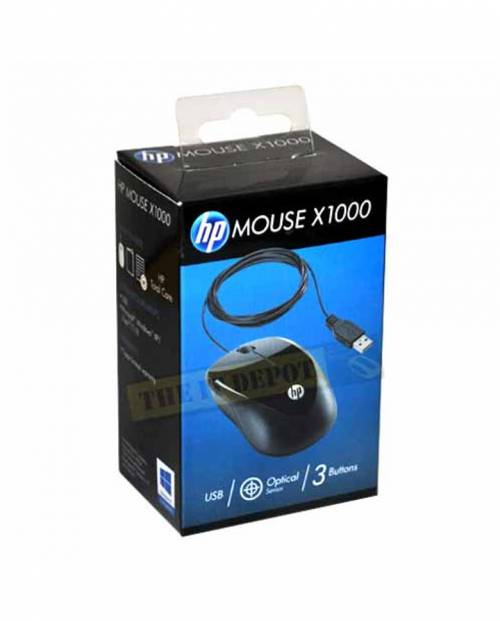hp-mouse-X1000: (189, 231, 384, 467)
